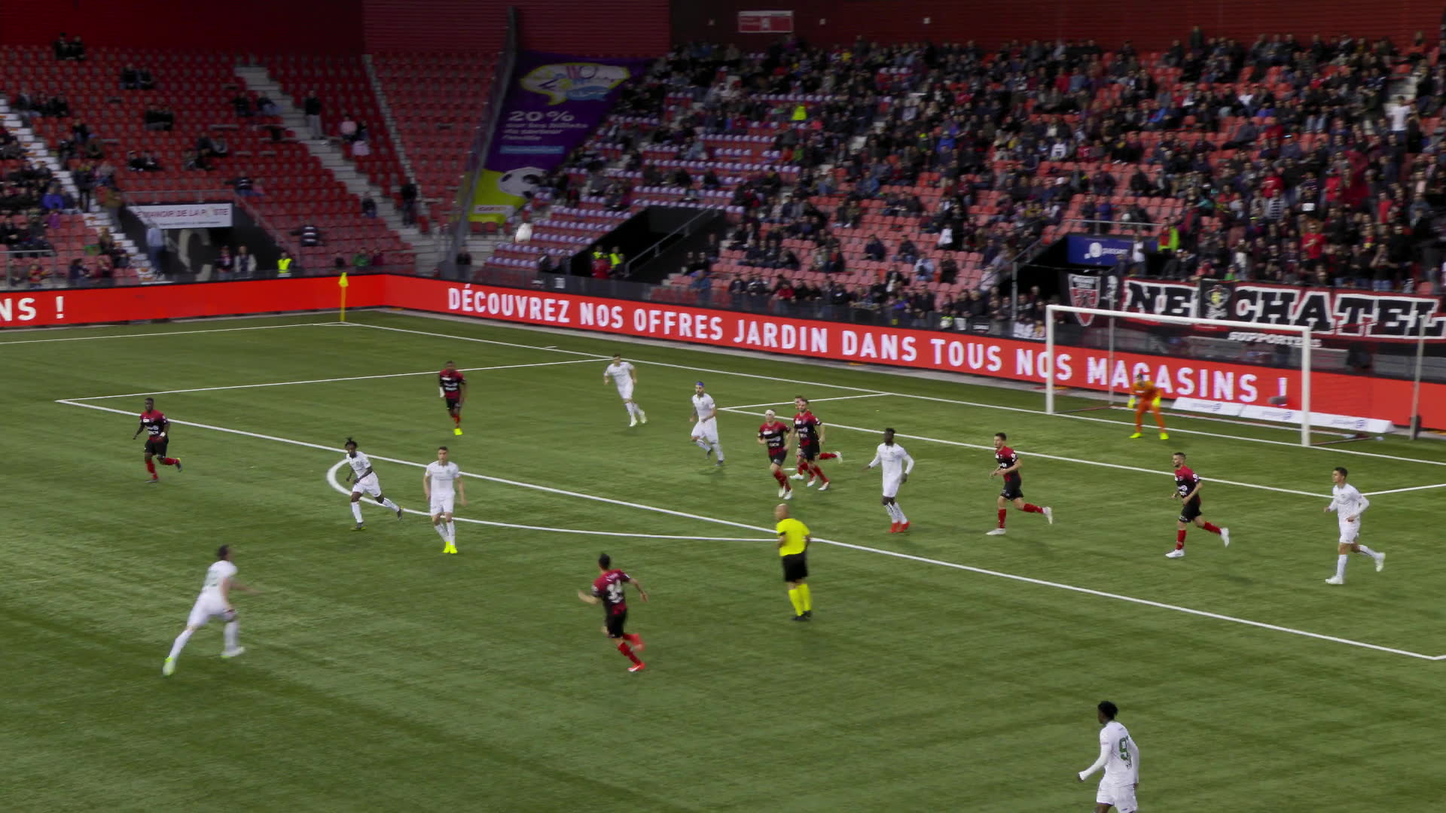ball: (515, 223, 531, 243)
player: (161, 547, 244, 673), (587, 553, 667, 672), (1322, 464, 1382, 583), (1077, 700, 1138, 812), (987, 434, 1042, 536), (859, 430, 912, 532), (1167, 456, 1219, 559), (343, 437, 398, 530), (419, 448, 461, 553), (789, 399, 831, 491), (135, 395, 175, 483), (753, 409, 789, 501), (600, 355, 643, 425), (797, 401, 831, 479), (1119, 373, 1157, 441), (686, 385, 718, 464), (432, 363, 462, 434)
referee: (766, 505, 806, 621)
